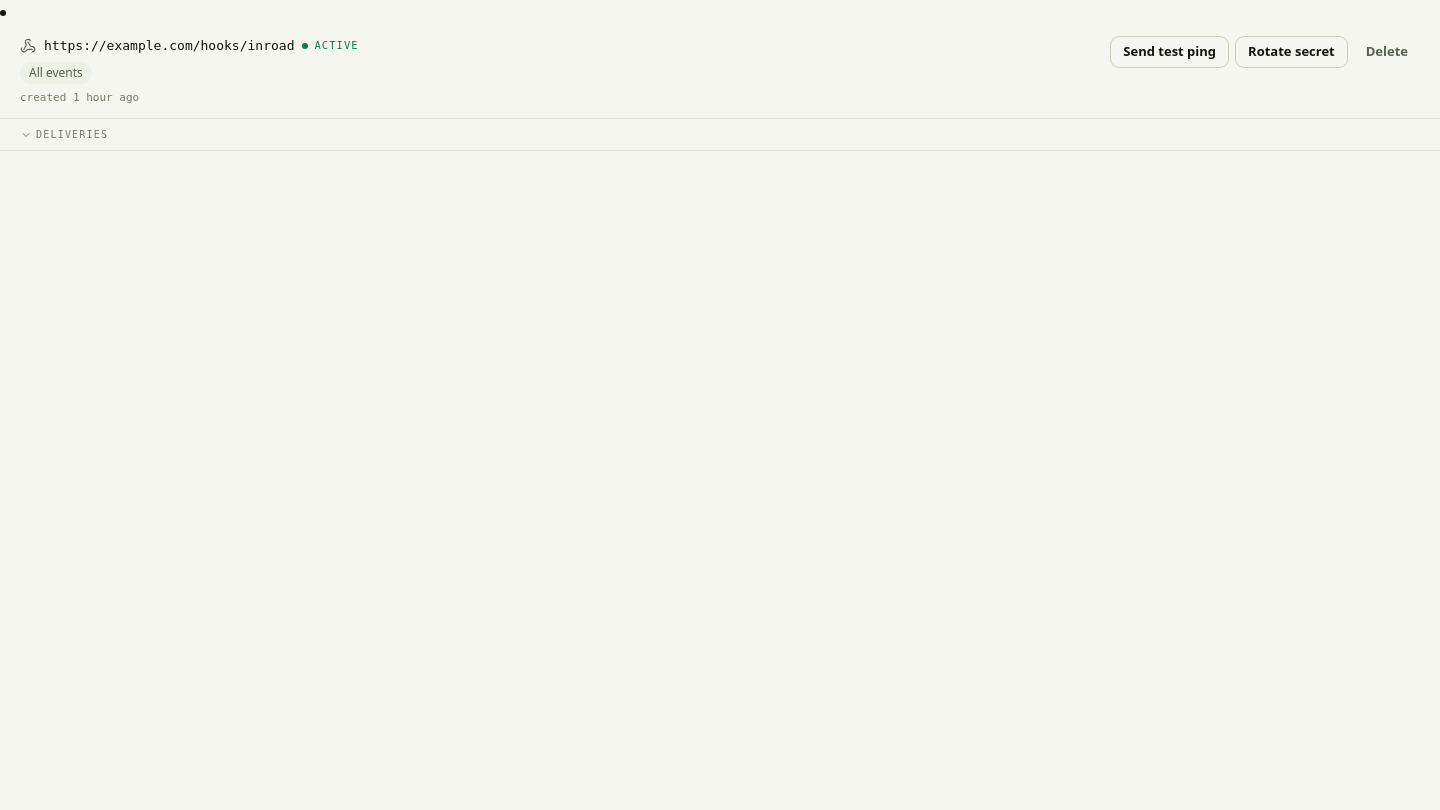
a failed delete is reported and the row is not left silently stuck
What coordinates should you click on to do the following:
click the button "Delete"
I would click on:
 (1387, 52)
Its box is [1354,36,1420,68].
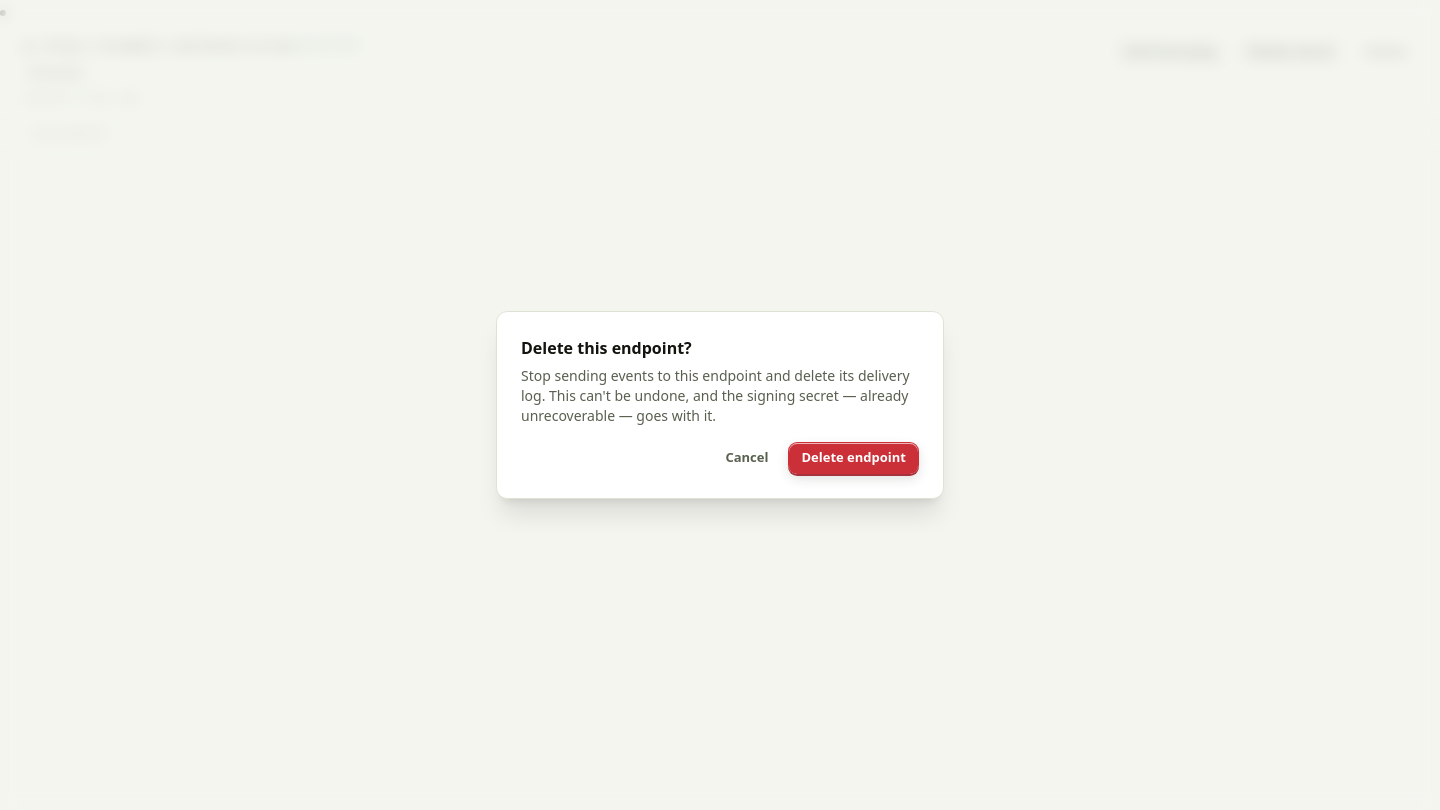
What coordinates should you click on to do the following:
click the button "Delete endpoint"
I would click on:
 (854, 458)
Its box is [788,442,919,474].
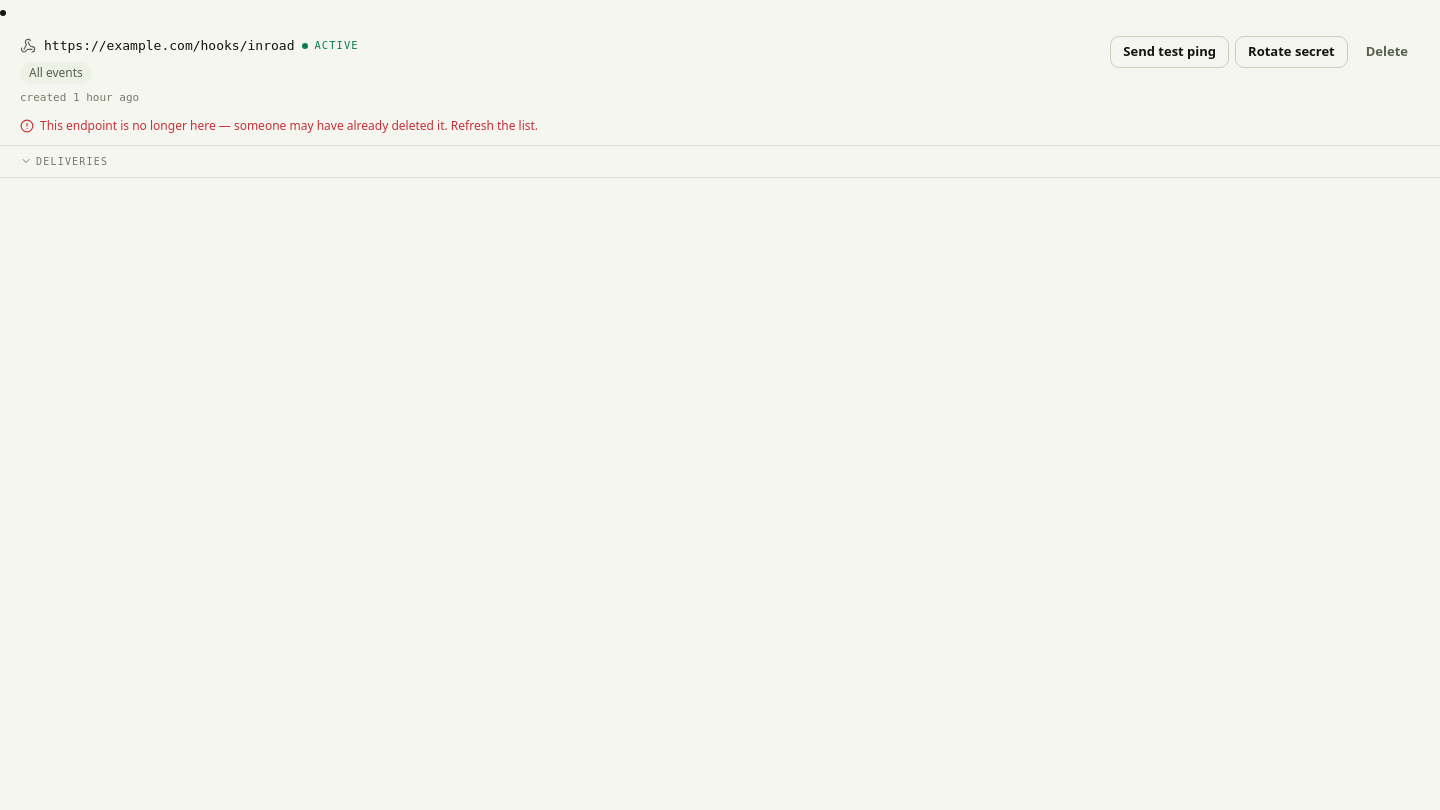
Result: the message shows "no longer here" at [40,117,538,134]
